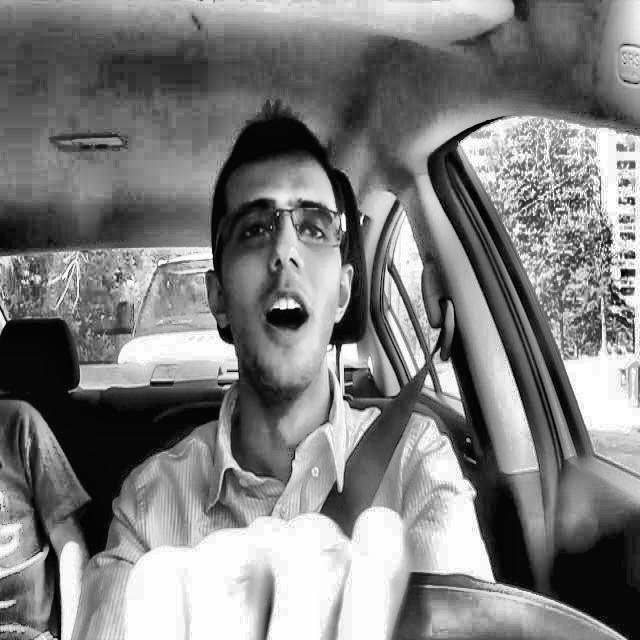open_eyes: (292, 212, 341, 248), (230, 213, 276, 246)
open_mouth: (248, 281, 324, 348)
